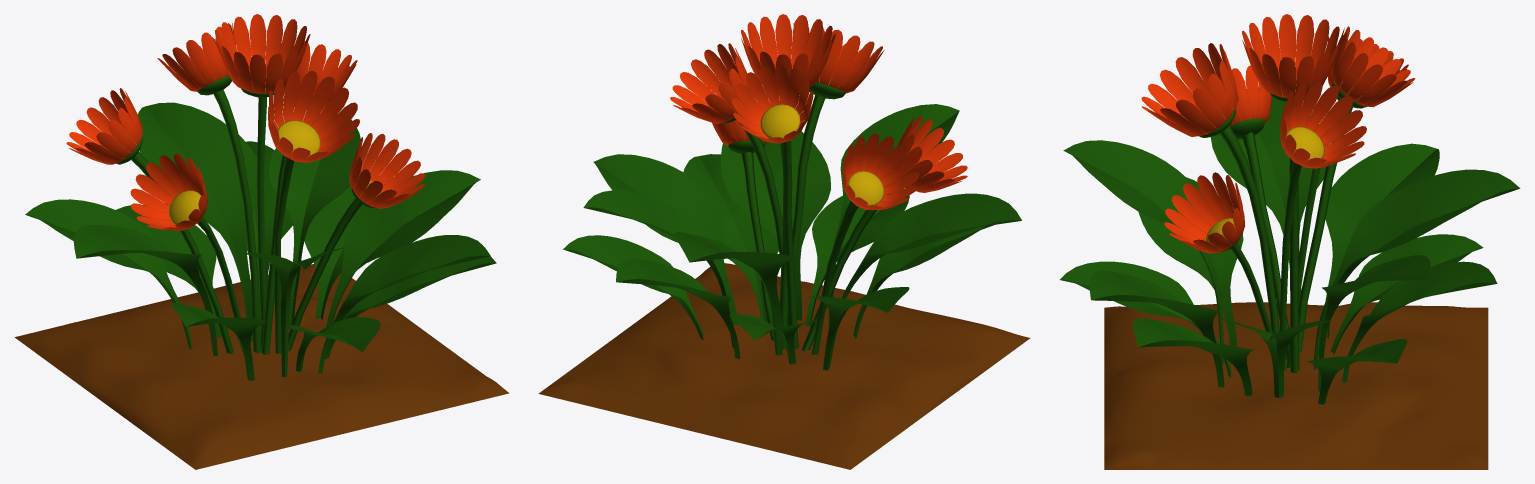
The model's file is orange-daisy-p3-bloom.glb.
3 views of the same model, side by side, from view 1: azimuth 30°, elevation 25°; view 2: azimuth 150°, elevation 25°; view 3: azimuth 270°, elevation 25° (orthographic). The views are drawn at different scales.
Visible parts, largest first — view 1: 3_nft_bloom; view 2: 3_nft_bloom; view 3: 3_nft_bloom.
Boxes of the visible parts, left/top/right/bottom form: 3_nft_bloom: left=14, top=14, right=508, bottom=469; 3_nft_bloom: left=538, top=14, right=1030, bottom=469; 3_nft_bloom: left=1060, top=14, right=1520, bottom=469.
Size of the model in its own units: 0.9323 by 0.7088 by 0.8405.
